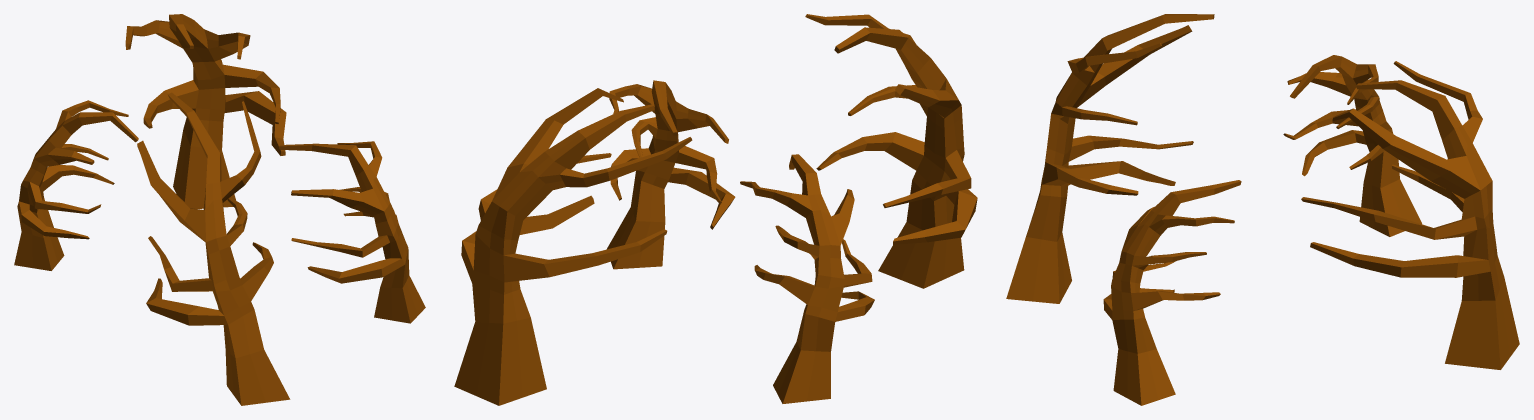
Rendered from StunningTrap.fbx.
3 renders of one model, left to right at view 1: azimuth 30°, elevation 25°; view 2: azimuth 150°, elevation 25°; view 3: azimuth 270°, elevation 25°, orthographic. The views are drawn at different scales.
Visible parts, largest first — view 1: Cube.001, Cube.003, Cube.002, Cube.004; view 2: Cube.003, Cube.001, Cube.004, Cube.002; view 3: Cube.003, Cube.001, Cube.002, Cube.004.
Boxes of the visible parts, box(x1,y1,x2,y2) form: Cube.001: box(137, 92, 290, 405); Cube.003: box(125, 14, 286, 208); Cube.002: box(279, 141, 425, 323); Cube.004: box(14, 100, 138, 270); Cube.003: box(454, 88, 692, 405); Cube.001: box(805, 14, 977, 288); Cube.004: box(740, 154, 874, 403); Cube.002: box(606, 80, 735, 269); Cube.003: box(1301, 61, 1519, 369); Cube.001: box(1006, 14, 1214, 303); Cube.002: box(1103, 180, 1241, 405); Cube.004: box(1283, 55, 1421, 236).
Bounding box in the file's own units: 113 × 85.45 × 146.
